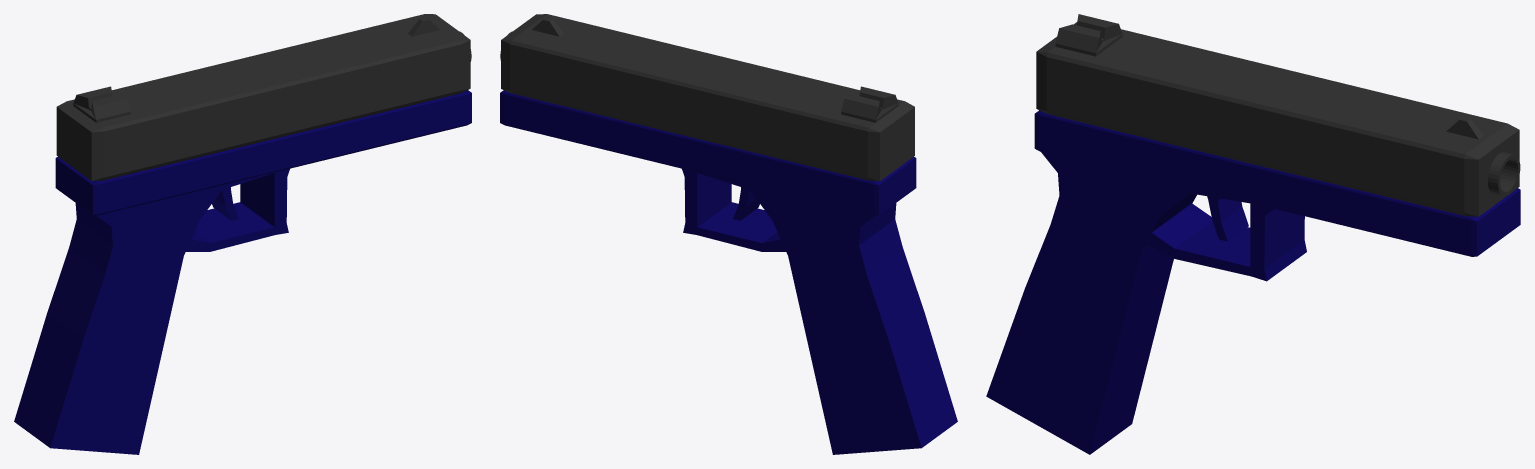
Rendered from gun.fbx.
3 views of the same model, side by side, from view 1: azimuth 30°, elevation 25°; view 2: azimuth 150°, elevation 25°; view 3: azimuth 330°, elevation 25° (orthographic). The views are drawn at different scales.
Parts seen in each view (by area): view 1: Cube.002, Cube.001, Cube, Cube.003, Cube.004; view 2: Cube.002, Cube.001, Cube, Cube.003, Cube.004; view 3: Cube.002, Cube.001, Cube, Cube.003, Cube.004, Cylinder.
Part boxes in pixels (x1,y1,x2,y2): Cube.002: (56,14,470,180); Cube.001: (14,171,279,454); Cube: (55,90,471,215); Cube.003: (186,168,289,251); Cube.004: (212,187,238,220); Cube.002: (501,14,914,181); Cube.001: (692,171,957,454); Cube: (500,90,916,215); Cube.003: (682,168,785,251); Cube.004: (733,187,759,220); Cube.002: (1036,14,1519,216); Cube.001: (986,152,1253,454); Cube: (1034,110,1520,256); Cube.003: (1145,203,1306,281); Cube.004: (1207,196,1248,241); Cylinder: (1487,152,1520,196).
Size of the model in its own units: 1361 by 1058 by 210.
